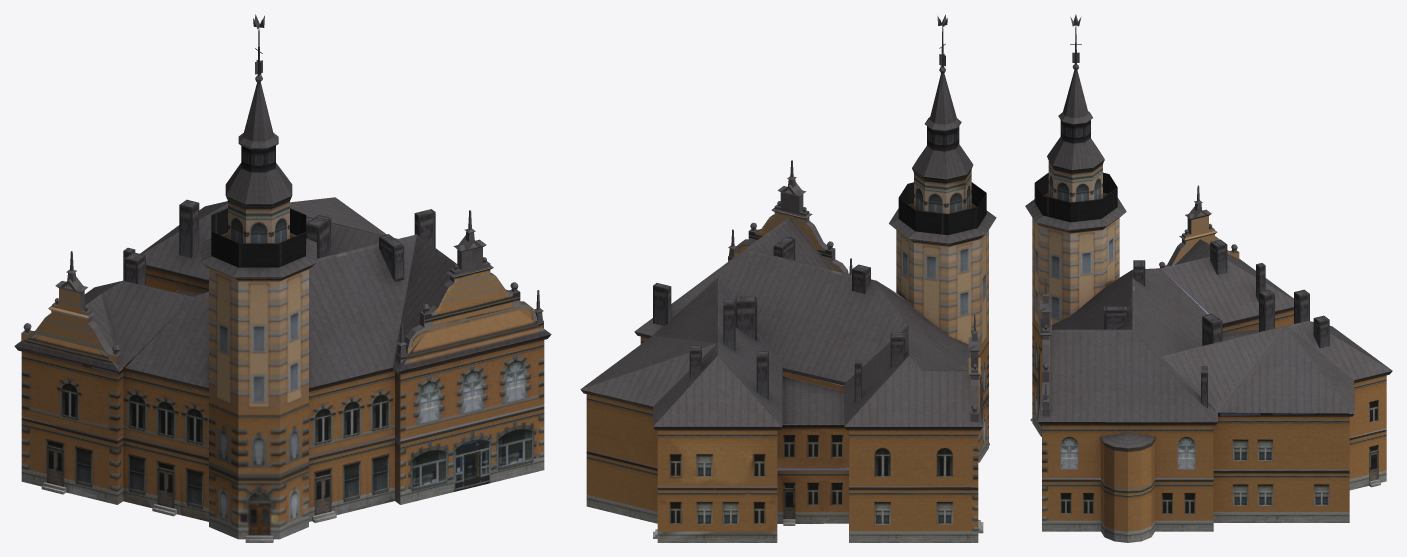
Rendered from LondonHouseFBX.fbx.
3 views of the same model, side by side, from view 1: azimuth 30°, elevation 25°; view 2: azimuth 150°, elevation 25°; view 3: azimuth 270°, elevation 25° (orthographic). The views are drawn at different scales.
Parts seen in each view (by area): view 1: House; view 2: House; view 3: House.
Part boxes in pixels (left/top/right/bottom): House: left=14, top=14, right=551, bottom=542; House: left=580, top=14, right=996, bottom=542; House: left=1025, top=14, right=1392, bottom=542.
Size of the model in its own units: 2648 by 2892 by 2352.
